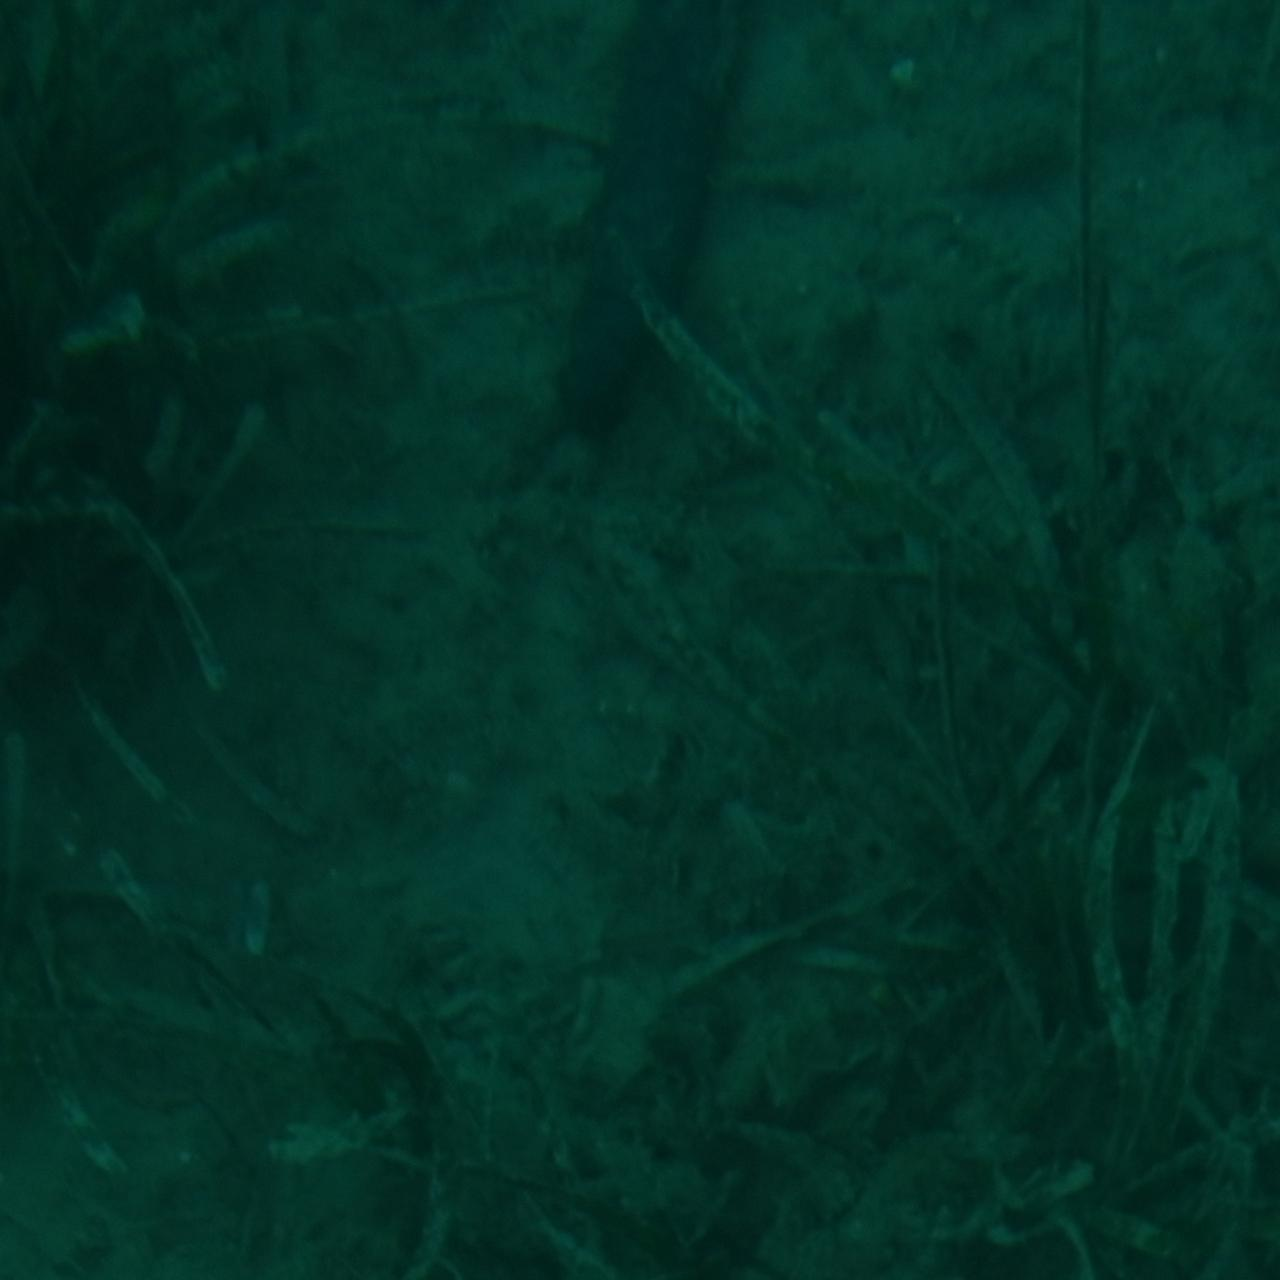Holothuria tubulosa: (541, 0, 739, 452)
